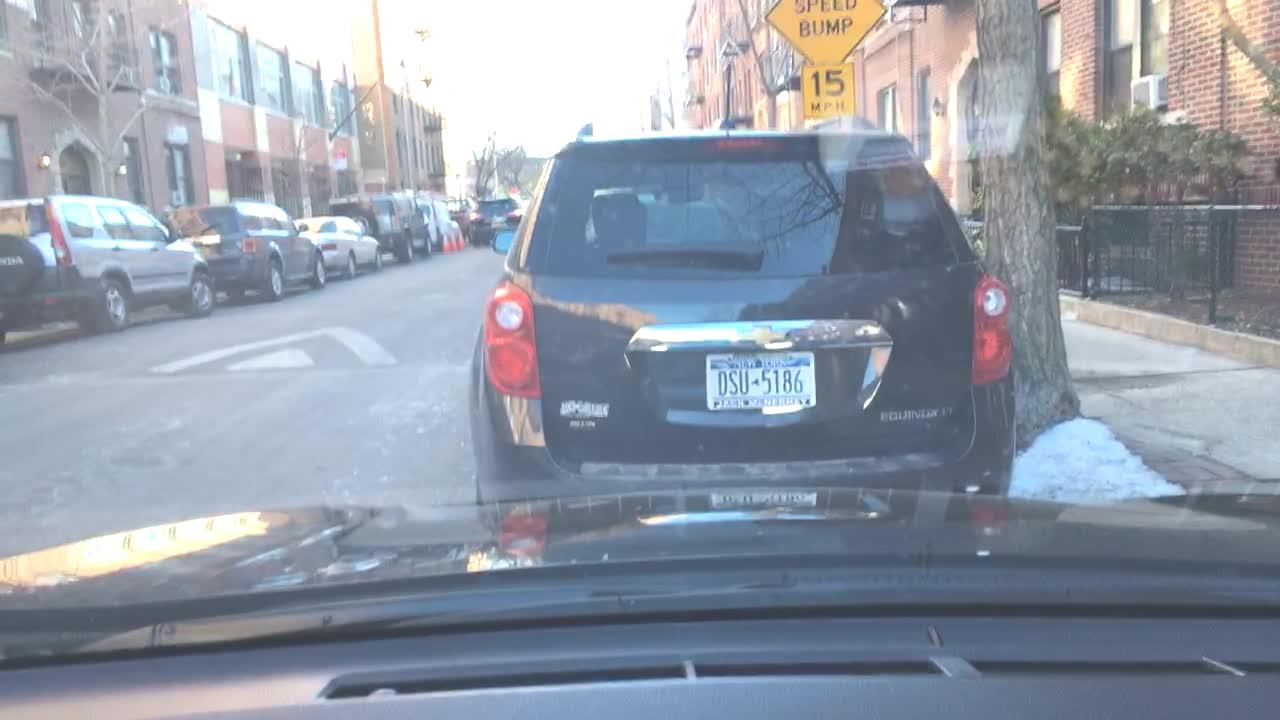chevrolet: (719, 318, 804, 355)
